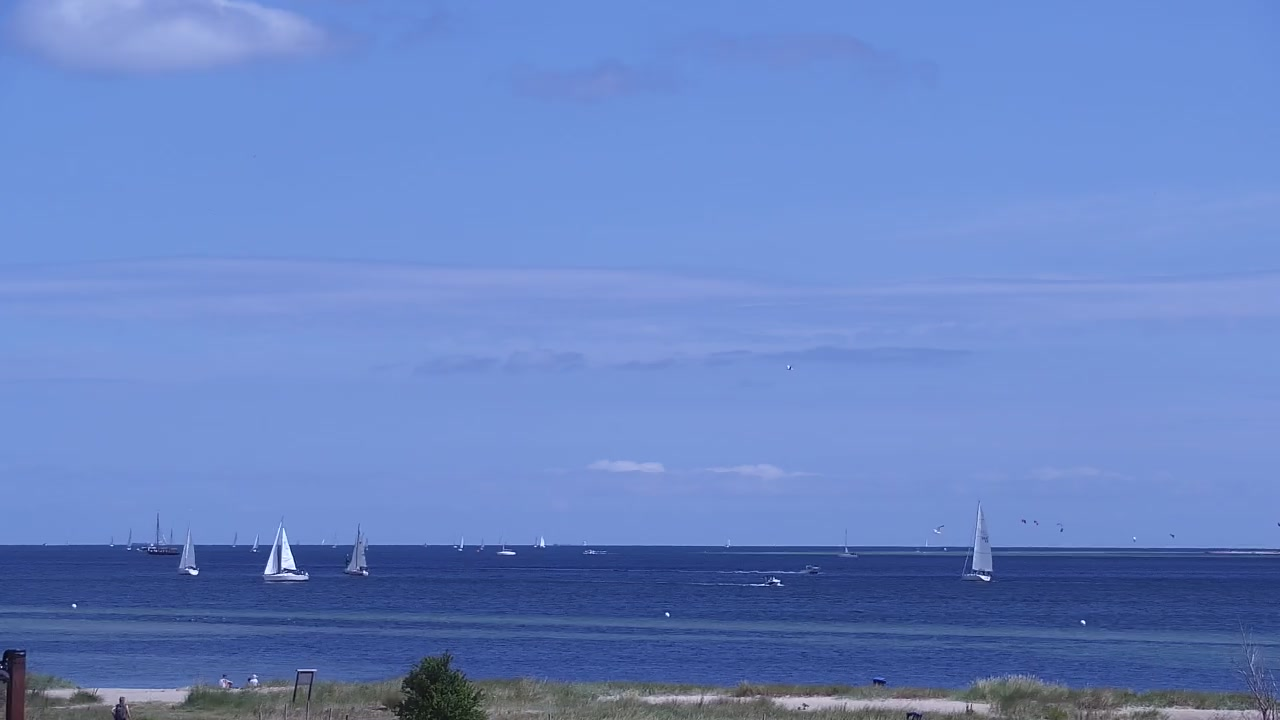human: (111, 696, 131, 720), (246, 673, 260, 691), (219, 673, 233, 690)
sea: (261, 515, 310, 581), (958, 498, 993, 582), (344, 521, 369, 575), (178, 521, 199, 576), (136, 512, 163, 553), (836, 526, 858, 558), (494, 527, 517, 555), (799, 562, 820, 574), (761, 574, 782, 585), (124, 526, 133, 551), (583, 548, 607, 555), (251, 532, 259, 552), (331, 533, 338, 550), (457, 534, 464, 551), (478, 535, 485, 551), (232, 531, 238, 549), (539, 535, 546, 550), (532, 535, 539, 548), (725, 537, 733, 548), (110, 536, 115, 547), (321, 538, 325, 546)
